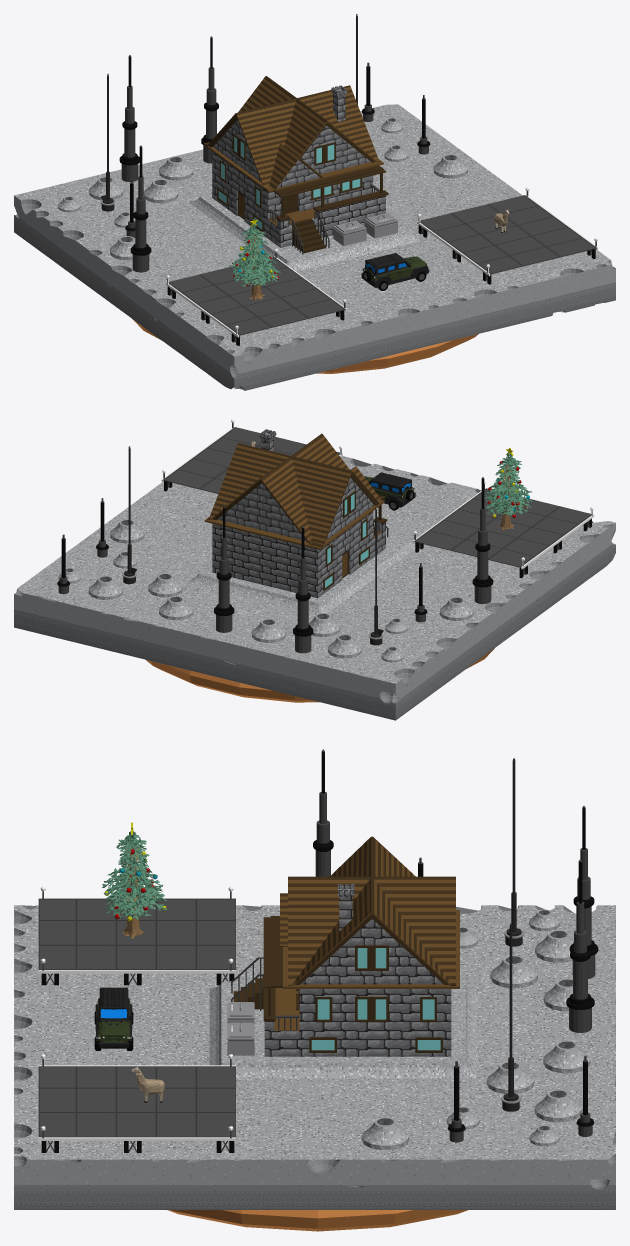
3 renders of one model, top to bottom at view 1: azimuth 30°, elevation 25°; view 2: azimuth 150°, elevation 25°; view 3: azimuth 270°, elevation 25°, orthographic. The views are drawn at different scales.
Parts seen in each view (by area): view 1: Cube.027, Cube.586, Cube.026, Cube.025, Cube.028, OBJRANDOM_CHRISTMAS_TREE, VEHICLES_JEEP, UNDERGROUND_PIZZA, Cylinder.021, Cylinder.020, Cylinder.017, Cube.029 (+5 smaller); view 2: Cube.027, Cube.586, Cube.025, Cube.028, Cube.026, OBJRANDOM_CHRISTMAS_TREE, UNDERGROUND_PIZZA, Cylinder.021, Cylinder.020, Cylinder.017, VEHICLES_JEEP, Cylinder.030 (+9 smaller); view 3: Cube.027, Cube.586, Cube.026, Cube.025, Cube.028, UNDERGROUND_PIZZA, OBJRANDOM_CHRISTMAS_TREE, Cylinder.017, VEHICLES_JEEP, Cylinder.020, Cylinder.021, Cylinder.031 (+10 smaller).
Part boxes in pixels (box(x1,y1,x2,y2)): Cube.027: box(14, 104, 615, 390); Cube.586: box(204, 76, 388, 254); Cube.026: box(417, 187, 598, 284); Cube.025: box(165, 249, 347, 345); Cube.028: box(190, 193, 420, 271); OBJRANDOM_CHRISTMAS_TREE: box(229, 219, 280, 300); VEHICLES_JEEP: box(361, 253, 429, 290); UNDERGROUND_PIZZA: box(132, 319, 478, 373); Cylinder.021: box(130, 145, 151, 272); Cylinder.020: box(119, 55, 139, 181); Cylinder.017: box(201, 36, 218, 163); Cube.029: box(333, 220, 366, 245); Cube.027: box(14, 456, 615, 720); Cube.586: box(204, 429, 388, 598); Cube.025: box(413, 481, 594, 577); Cube.028: box(188, 533, 415, 614); Cube.026: box(161, 419, 342, 493); OBJRANDOM_CHRISTMAS_TREE: box(484, 447, 532, 529); UNDERGROUND_PIZZA: box(145, 648, 494, 702); Cylinder.021: box(472, 477, 493, 604); Cylinder.020: box(293, 526, 313, 653); Cylinder.017: box(214, 505, 234, 632); VEHICLES_JEEP: box(364, 472, 415, 510); Cylinder.030: box(148, 573, 182, 597); Cube.027: box(14, 905, 615, 1209); Cube.586: box(231, 836, 459, 1056); Cube.026: box(38, 1054, 235, 1152); Cube.025: box(38, 886, 235, 985); Cube.028: box(209, 981, 477, 1078); UNDERGROUND_PIZZA: box(167, 1210, 467, 1231); OBJRANDOM_CHRISTMAS_TREE: box(102, 822, 167, 938); Cylinder.017: box(566, 859, 594, 1032); VEHICLES_JEEP: box(94, 987, 133, 1050); Cylinder.020: box(569, 806, 598, 978); Cylinder.021: box(313, 749, 333, 876); Cylinder.031: box(534, 1089, 582, 1122).
Size of the model in its own units: 4000 by 2011 by 4000.
37 materials, 5 textured.
